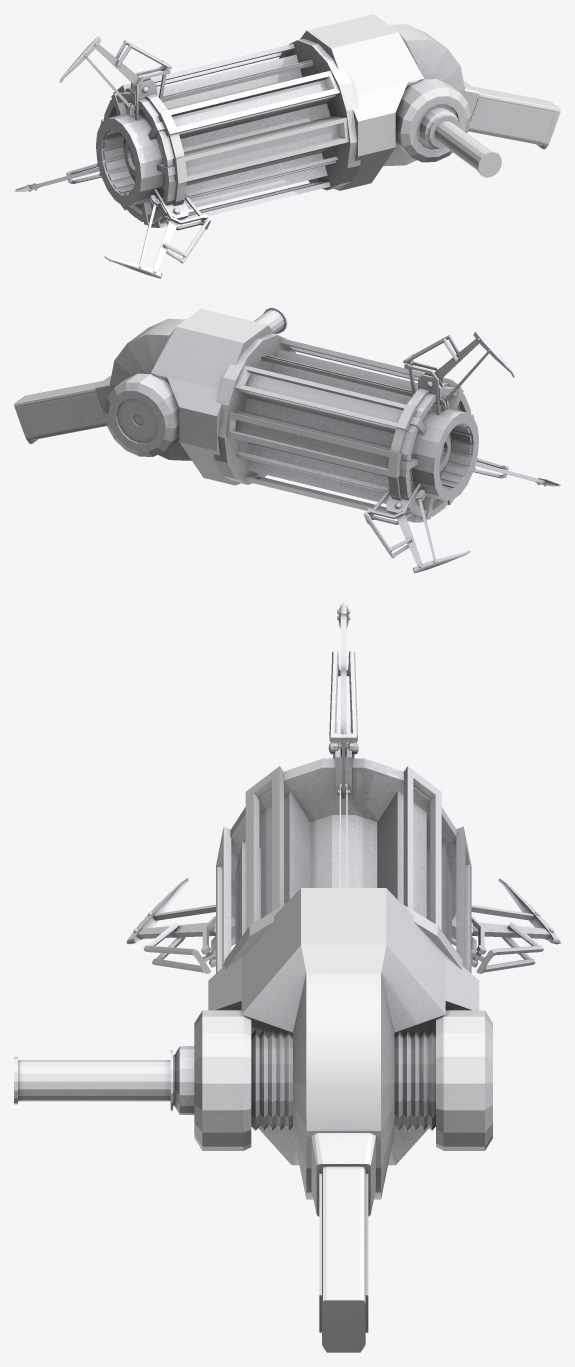
File: Gravity Gun.obj
3 renders of one model, top to bottom at view 1: azimuth 30°, elevation 25°; view 2: azimuth 150°, elevation 25°; view 3: azimuth 270°, elevation 25°, orthographic. The views are drawn at different scales.
Visible parts, largest first — view 1: Object009; view 2: Object009; view 3: Object009.
Boxes of the visible parts, <box> form: Object009: <box>14,14,560,278</box>; Object009: <box>14,307,560,573</box>; Object009: <box>14,602,560,1352</box>.
Bounding box in the file's own units: 155 × 64.88 × 85.27.
1 material, 1 textured.
